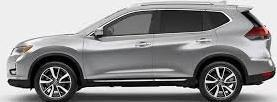SUV: (9, 4, 276, 102)
